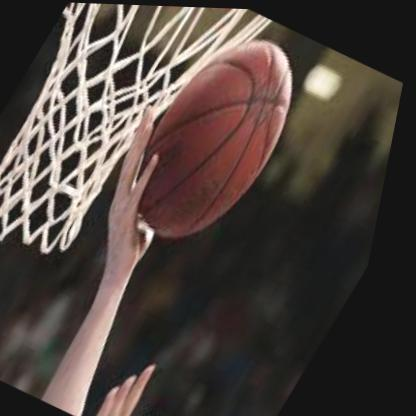basketball: (108, 16, 333, 261)
